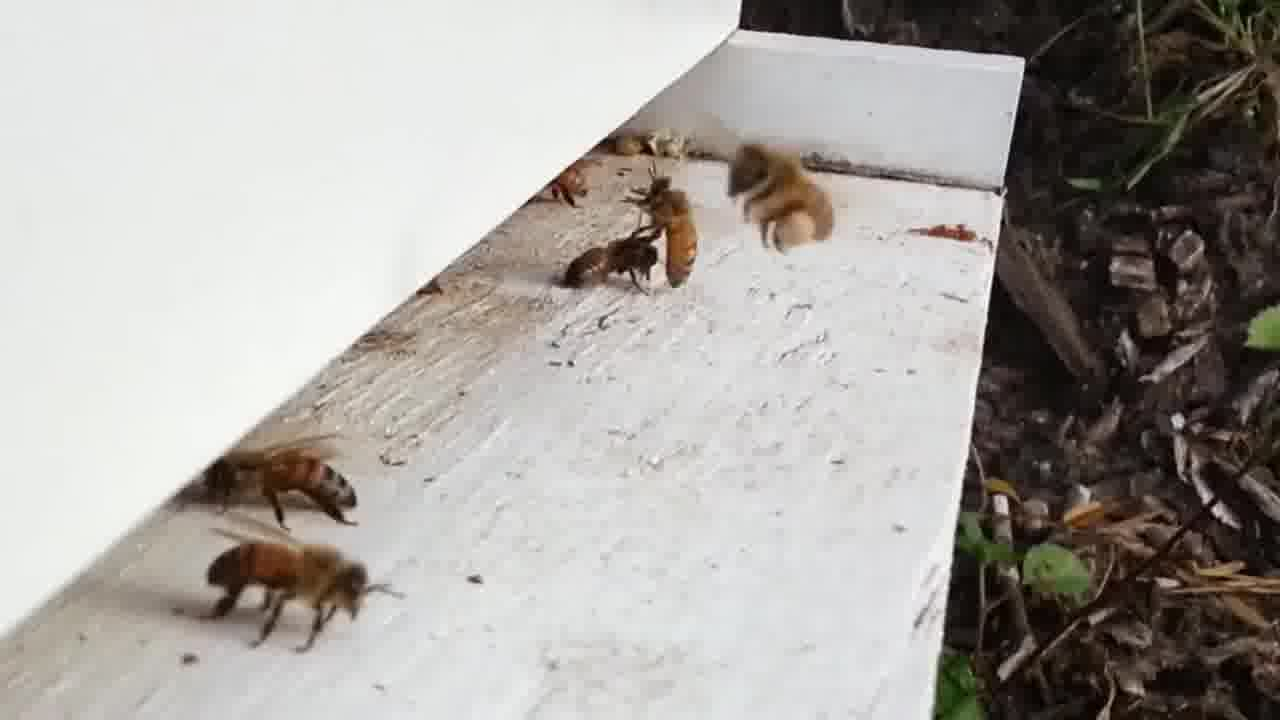pollen: (725, 139, 834, 258)
